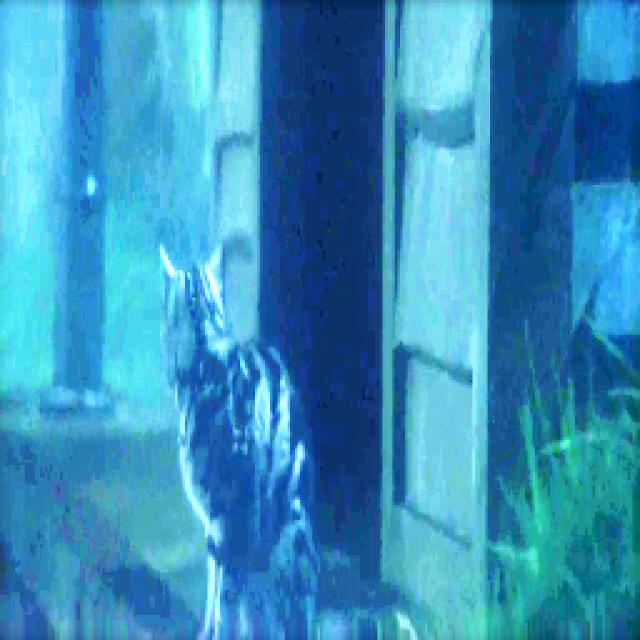cat: (119, 217, 336, 640)
